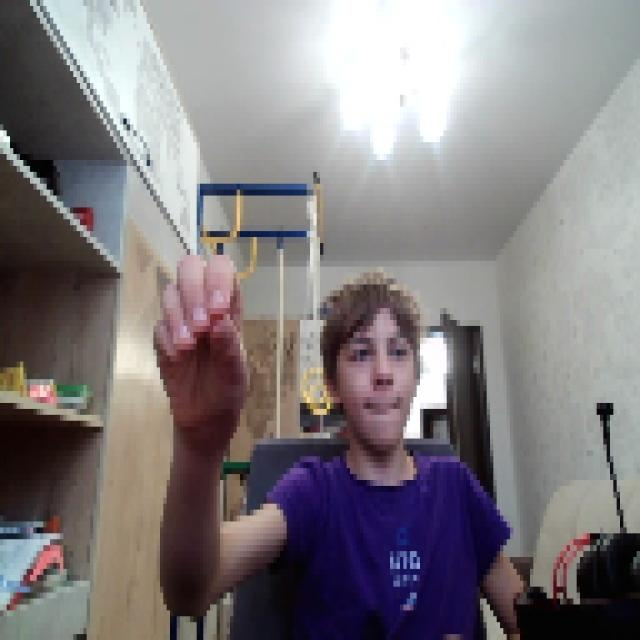left_click: (146, 243, 246, 433)
